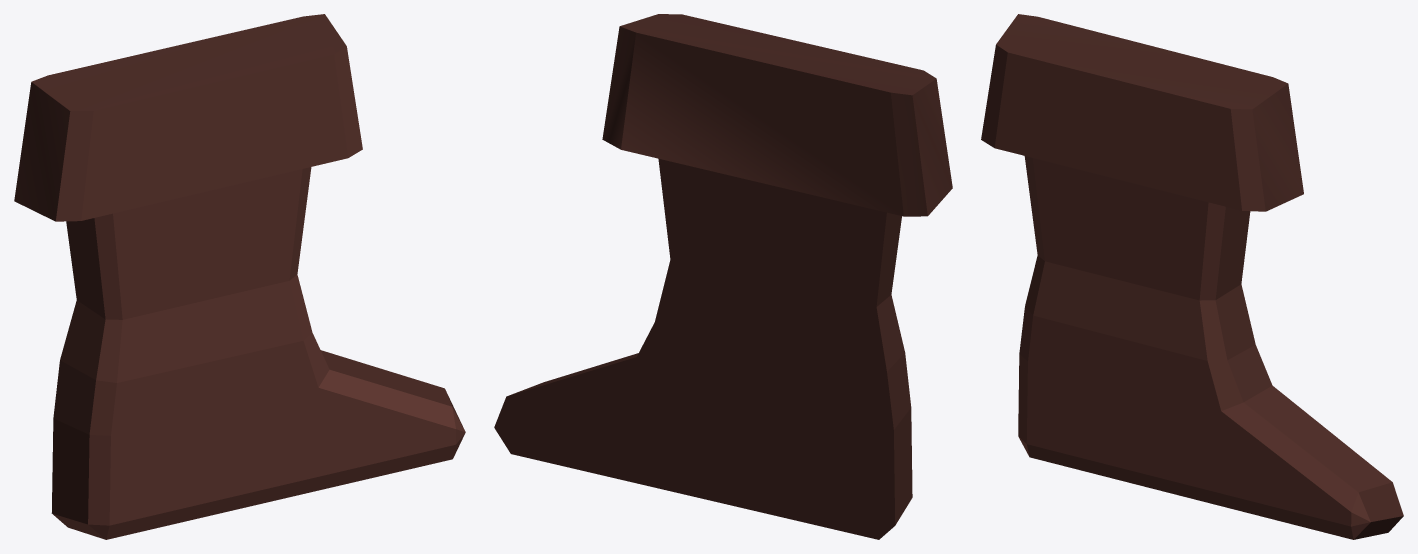
The model's file is icon_shoes.fbx.
3 views of the same model, side by side, from view 1: azimuth 30°, elevation 25°; view 2: azimuth 150°, elevation 25°; view 3: azimuth 330°, elevation 25° (orthographic). The views are drawn at different scales.
Visible parts, largest first — view 1: icon_shoes; view 2: icon_shoes; view 3: icon_shoes.
Part boxes in pixels (<box>): icon_shoes: <box>14,14,465,539</box>; icon_shoes: <box>494,14,952,539</box>; icon_shoes: <box>981,14,1403,539</box>.
Size of the model in its own units: 35.5 by 35.62 by 5.8.
